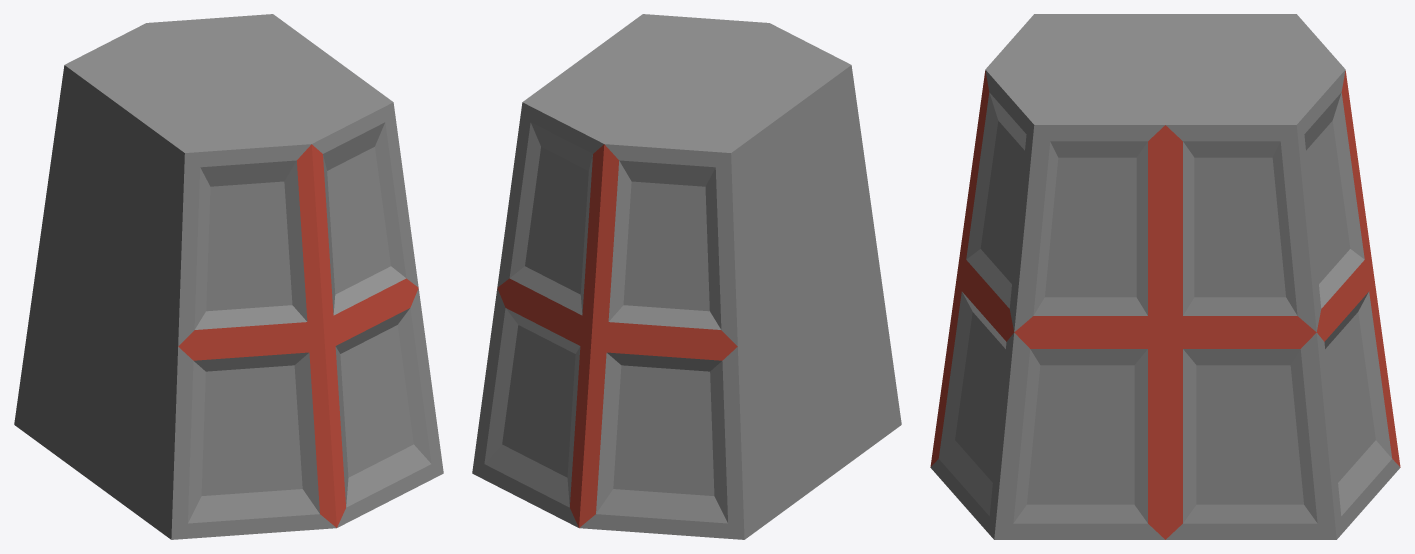
Rendered from StoneTorso.fbx.
3 views of the same model, side by side, from view 1: azimuth 30°, elevation 25°; view 2: azimuth 150°, elevation 25°; view 3: azimuth 270°, elevation 25° (orthographic). The views are drawn at different scales.
Visible parts, largest first — view 1: Torso Armour Stone; view 2: Torso Armour Stone; view 3: Torso Armour Stone.
Boxes of the visible parts, x1,y1,x2,y2 form: Torso Armour Stone: (14,14,443,539); Torso Armour Stone: (472,14,901,539); Torso Armour Stone: (930,14,1400,539).
Bounding box in the file's own units: 229 × 294 × 315.
